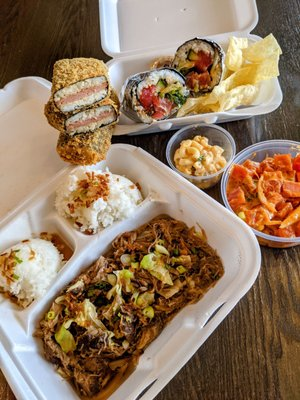sushi: (3, 141, 261, 400), (97, 0, 260, 56), (220, 140, 300, 248), (165, 124, 237, 190)
